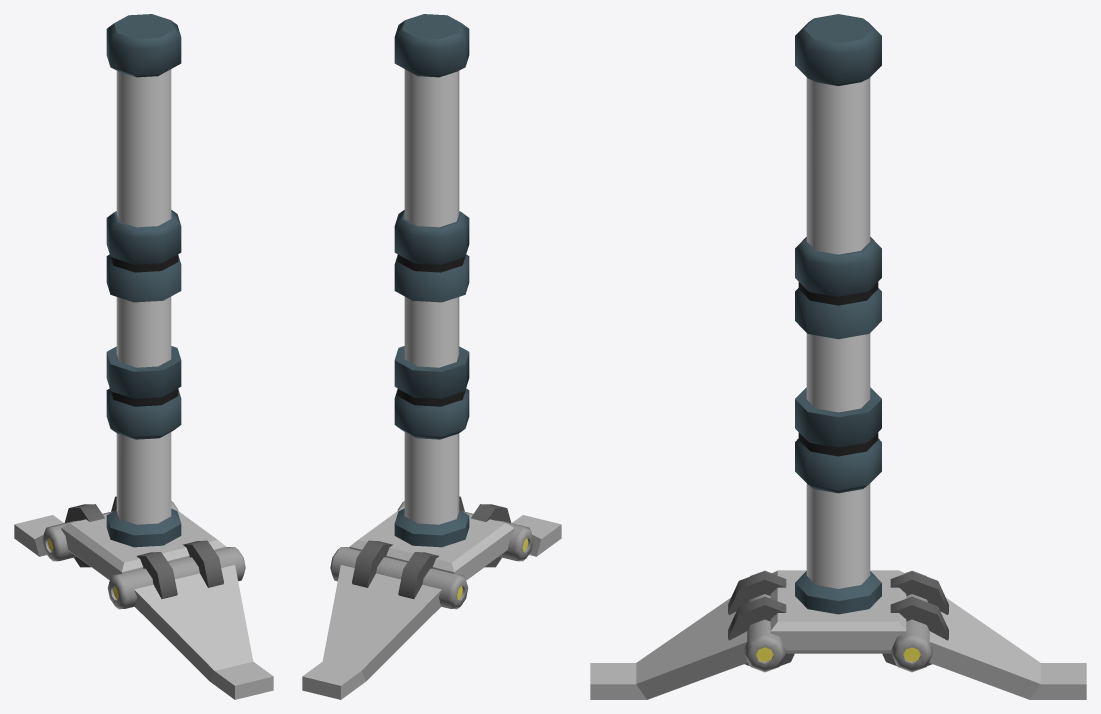
File: space_station_decoration_001.fbx
3 renders of one model, left to right at view 1: azimuth 30°, elevation 25°; view 2: azimuth 150°, elevation 25°; view 3: azimuth 270°, elevation 25°, orthographic. The views are drawn at different scales.
Parts seen in each view (by area): view 1: space_station_decoration_001; view 2: space_station_decoration_001; view 3: space_station_decoration_001.
Boxes of the visible parts, x1,y1,x2,y2 form: space_station_decoration_001: [14, 14, 273, 699]; space_station_decoration_001: [302, 14, 561, 699]; space_station_decoration_001: [590, 14, 1086, 699].
Size of the model in its own units: 136 by 419 by 616.
